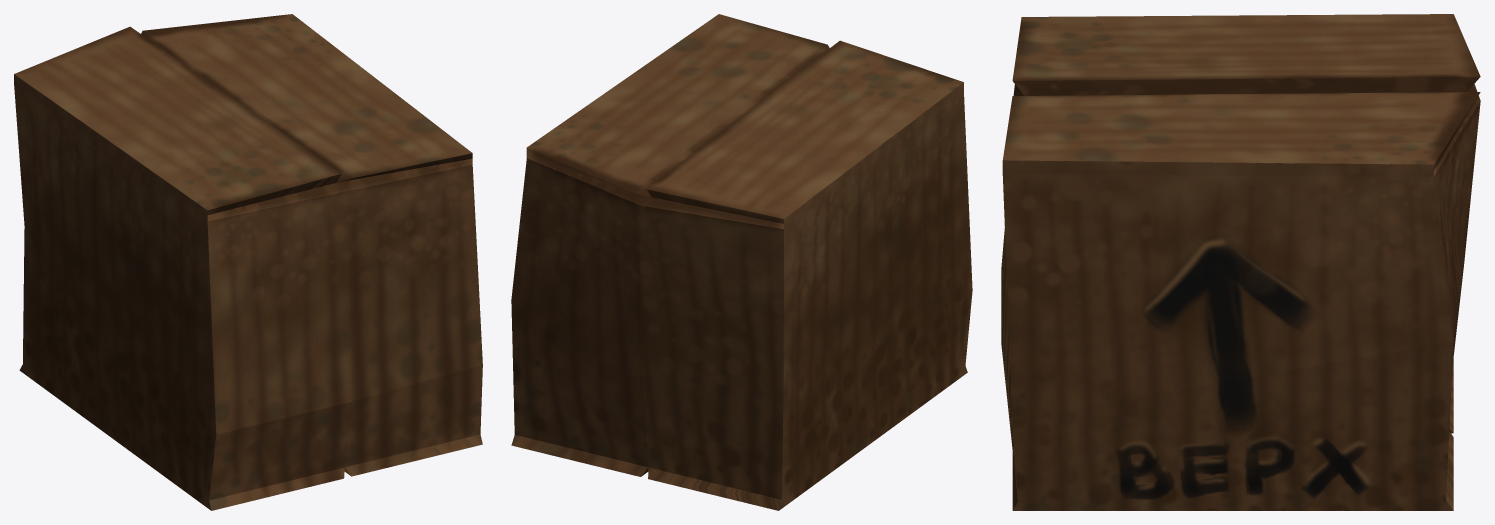
The picture shows the model from 3 angles, left to right: view 1: azimuth 30°, elevation 25°; view 2: azimuth 150°, elevation 25°; view 3: azimuth 270°, elevation 25°; orthographic projection. The views are drawn at different scales.
Parts seen in each view (by area): view 1: box; view 2: box; view 3: box.
Boxes of the visible parts, x1=… form: box: x1=14, y1=14, x2=482, y2=510; box: x1=511, y1=14, x2=972, y2=510; box: x1=1001, y1=14, x2=1480, y2=510.
Bounding box in the file's own units: 0.798 × 0.8413 × 1.04.
Materials: 1 (1 with a texture image).
